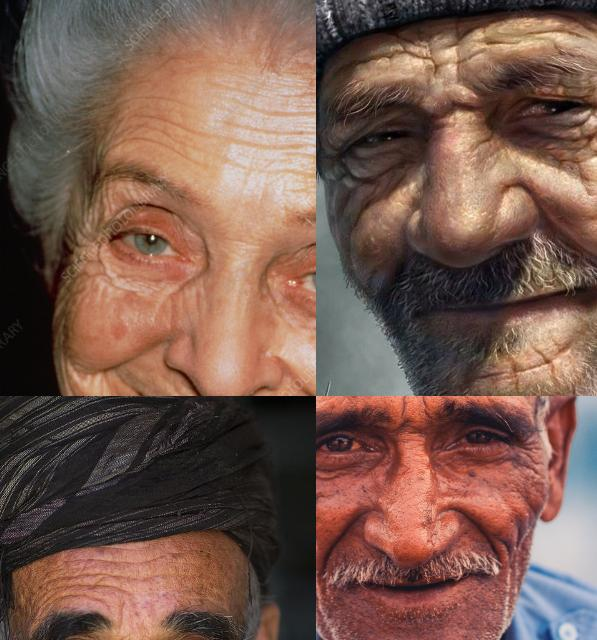chin: (501, 352, 570, 384)
crows_feet: (68, 218, 100, 270), (322, 152, 356, 188), (518, 437, 540, 479)
forehead: (218, 119, 298, 175), (126, 100, 183, 152), (47, 569, 119, 607), (447, 22, 501, 58), (347, 46, 423, 68), (95, 548, 158, 574), (530, 19, 584, 41)
frown_line: (427, 88, 474, 122), (395, 396, 429, 430)
gummy_smile: (448, 506, 508, 552), (316, 510, 360, 564), (534, 198, 580, 248), (285, 359, 316, 396)
masseter: (57, 357, 96, 396), (342, 198, 377, 240), (510, 512, 528, 564), (316, 535, 325, 601)
smoker_lines: (109, 327, 167, 375)
